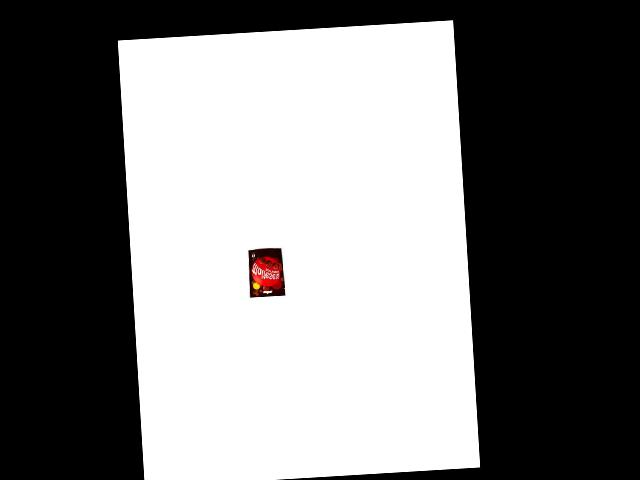chocolate: (247, 246, 286, 298)
